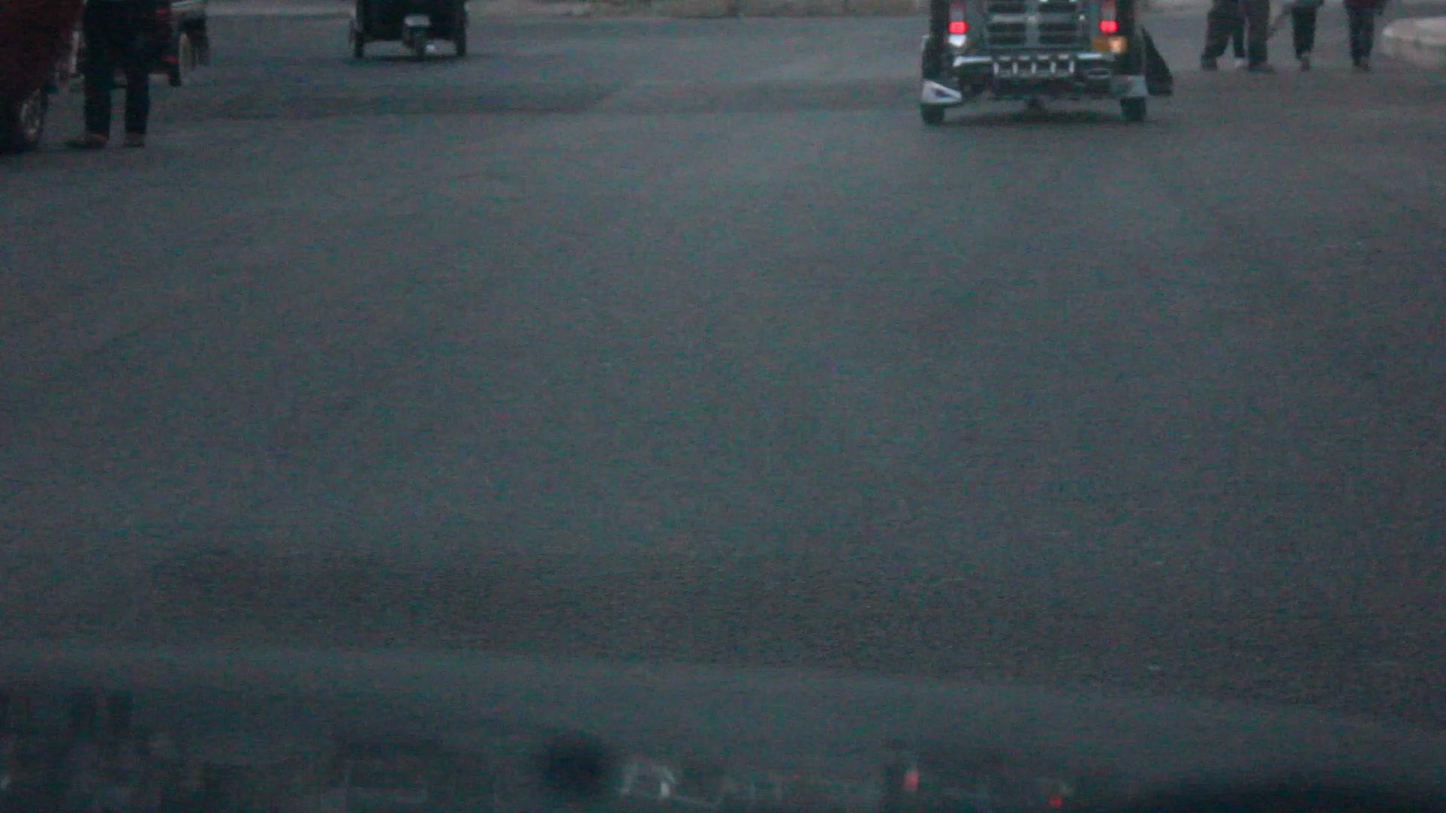Bump: (164, 68, 919, 124), (1165, 64, 1444, 122)
